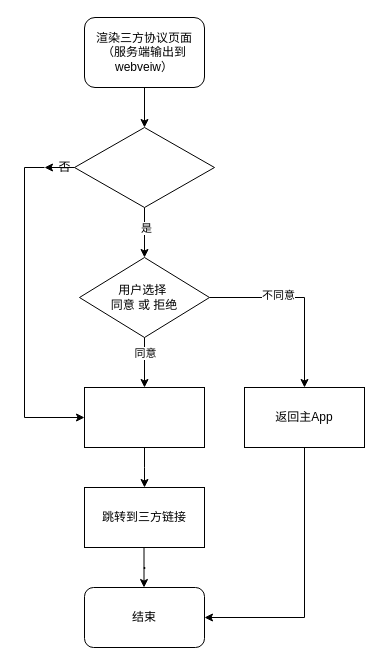
Image size: 382x665. Some labels were removed from this diagram. Each missing label, with the centre of its shape:
"判断是否弹出三方 协议询问弹窗" belongs at pixel 144 167.
"请求资源服务器接口获取access_token和openid" belongs at pixel 144 417.
